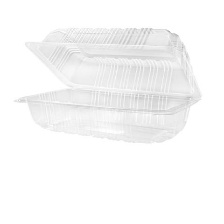plastic_box: (6, 15, 206, 152)
